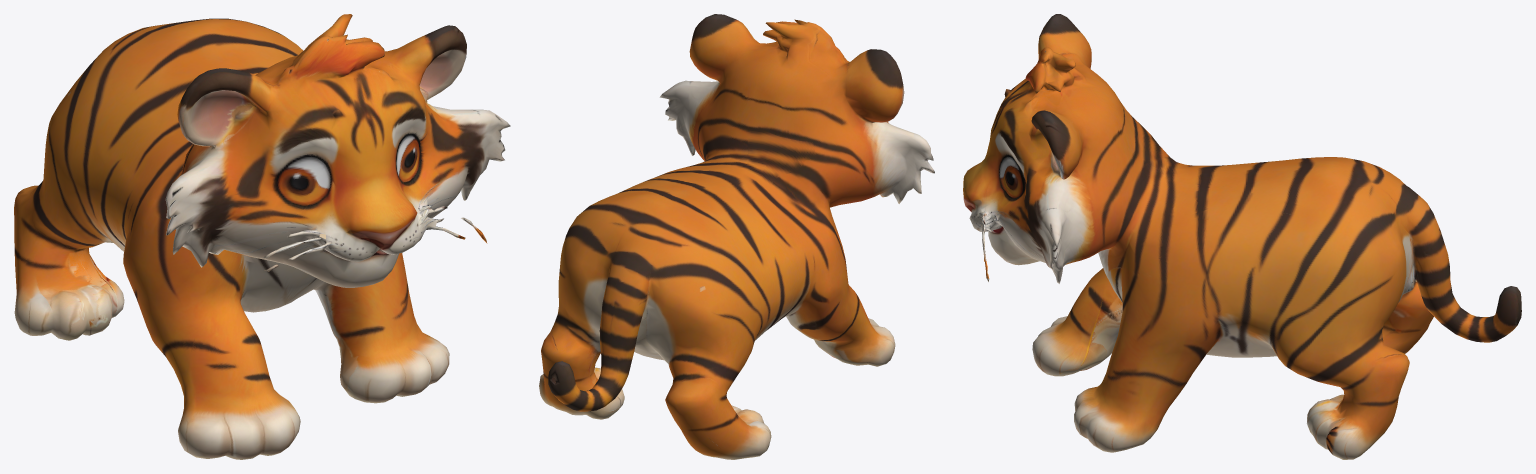
File: tiger.glb
The picture shows the model from 3 angles, left to right: view 1: azimuth 30°, elevation 25°; view 2: azimuth 150°, elevation 25°; view 3: azimuth 270°, elevation 25°; orthographic projection. The views are drawn at different scales.
Bounding box in the file's own units: 40534 × 45148 × 65615.
Materials: 1 (1 with a texture image).
